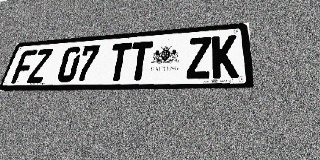0: (56, 46, 82, 82)
7: (74, 45, 100, 82)
F: (11, 50, 38, 84)
K: (212, 35, 239, 79)
T: (127, 41, 153, 81), (106, 42, 132, 81)
Z: (186, 37, 211, 79), (26, 48, 53, 83)
